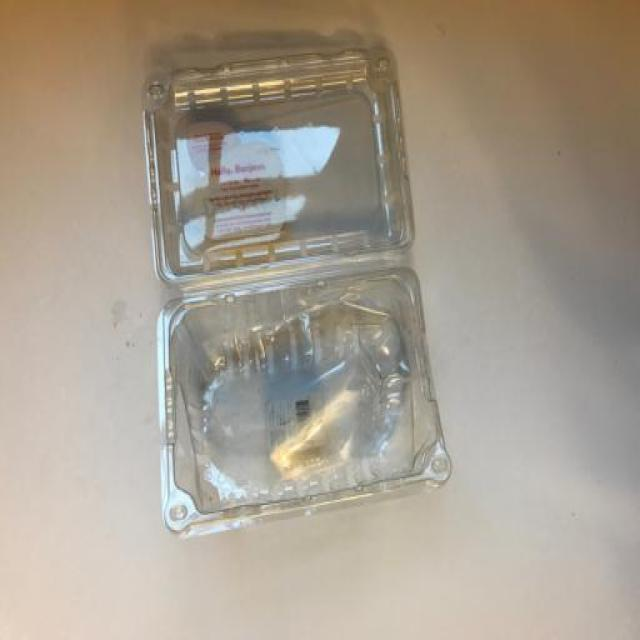inorganic: (140, 32, 454, 542)
